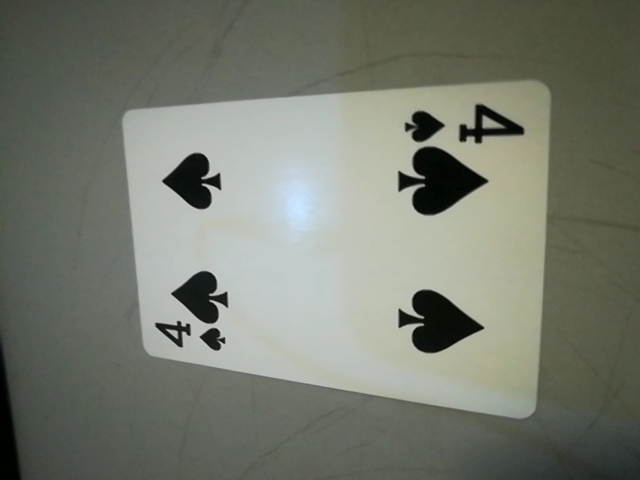ht 4: (392, 96, 531, 159)
